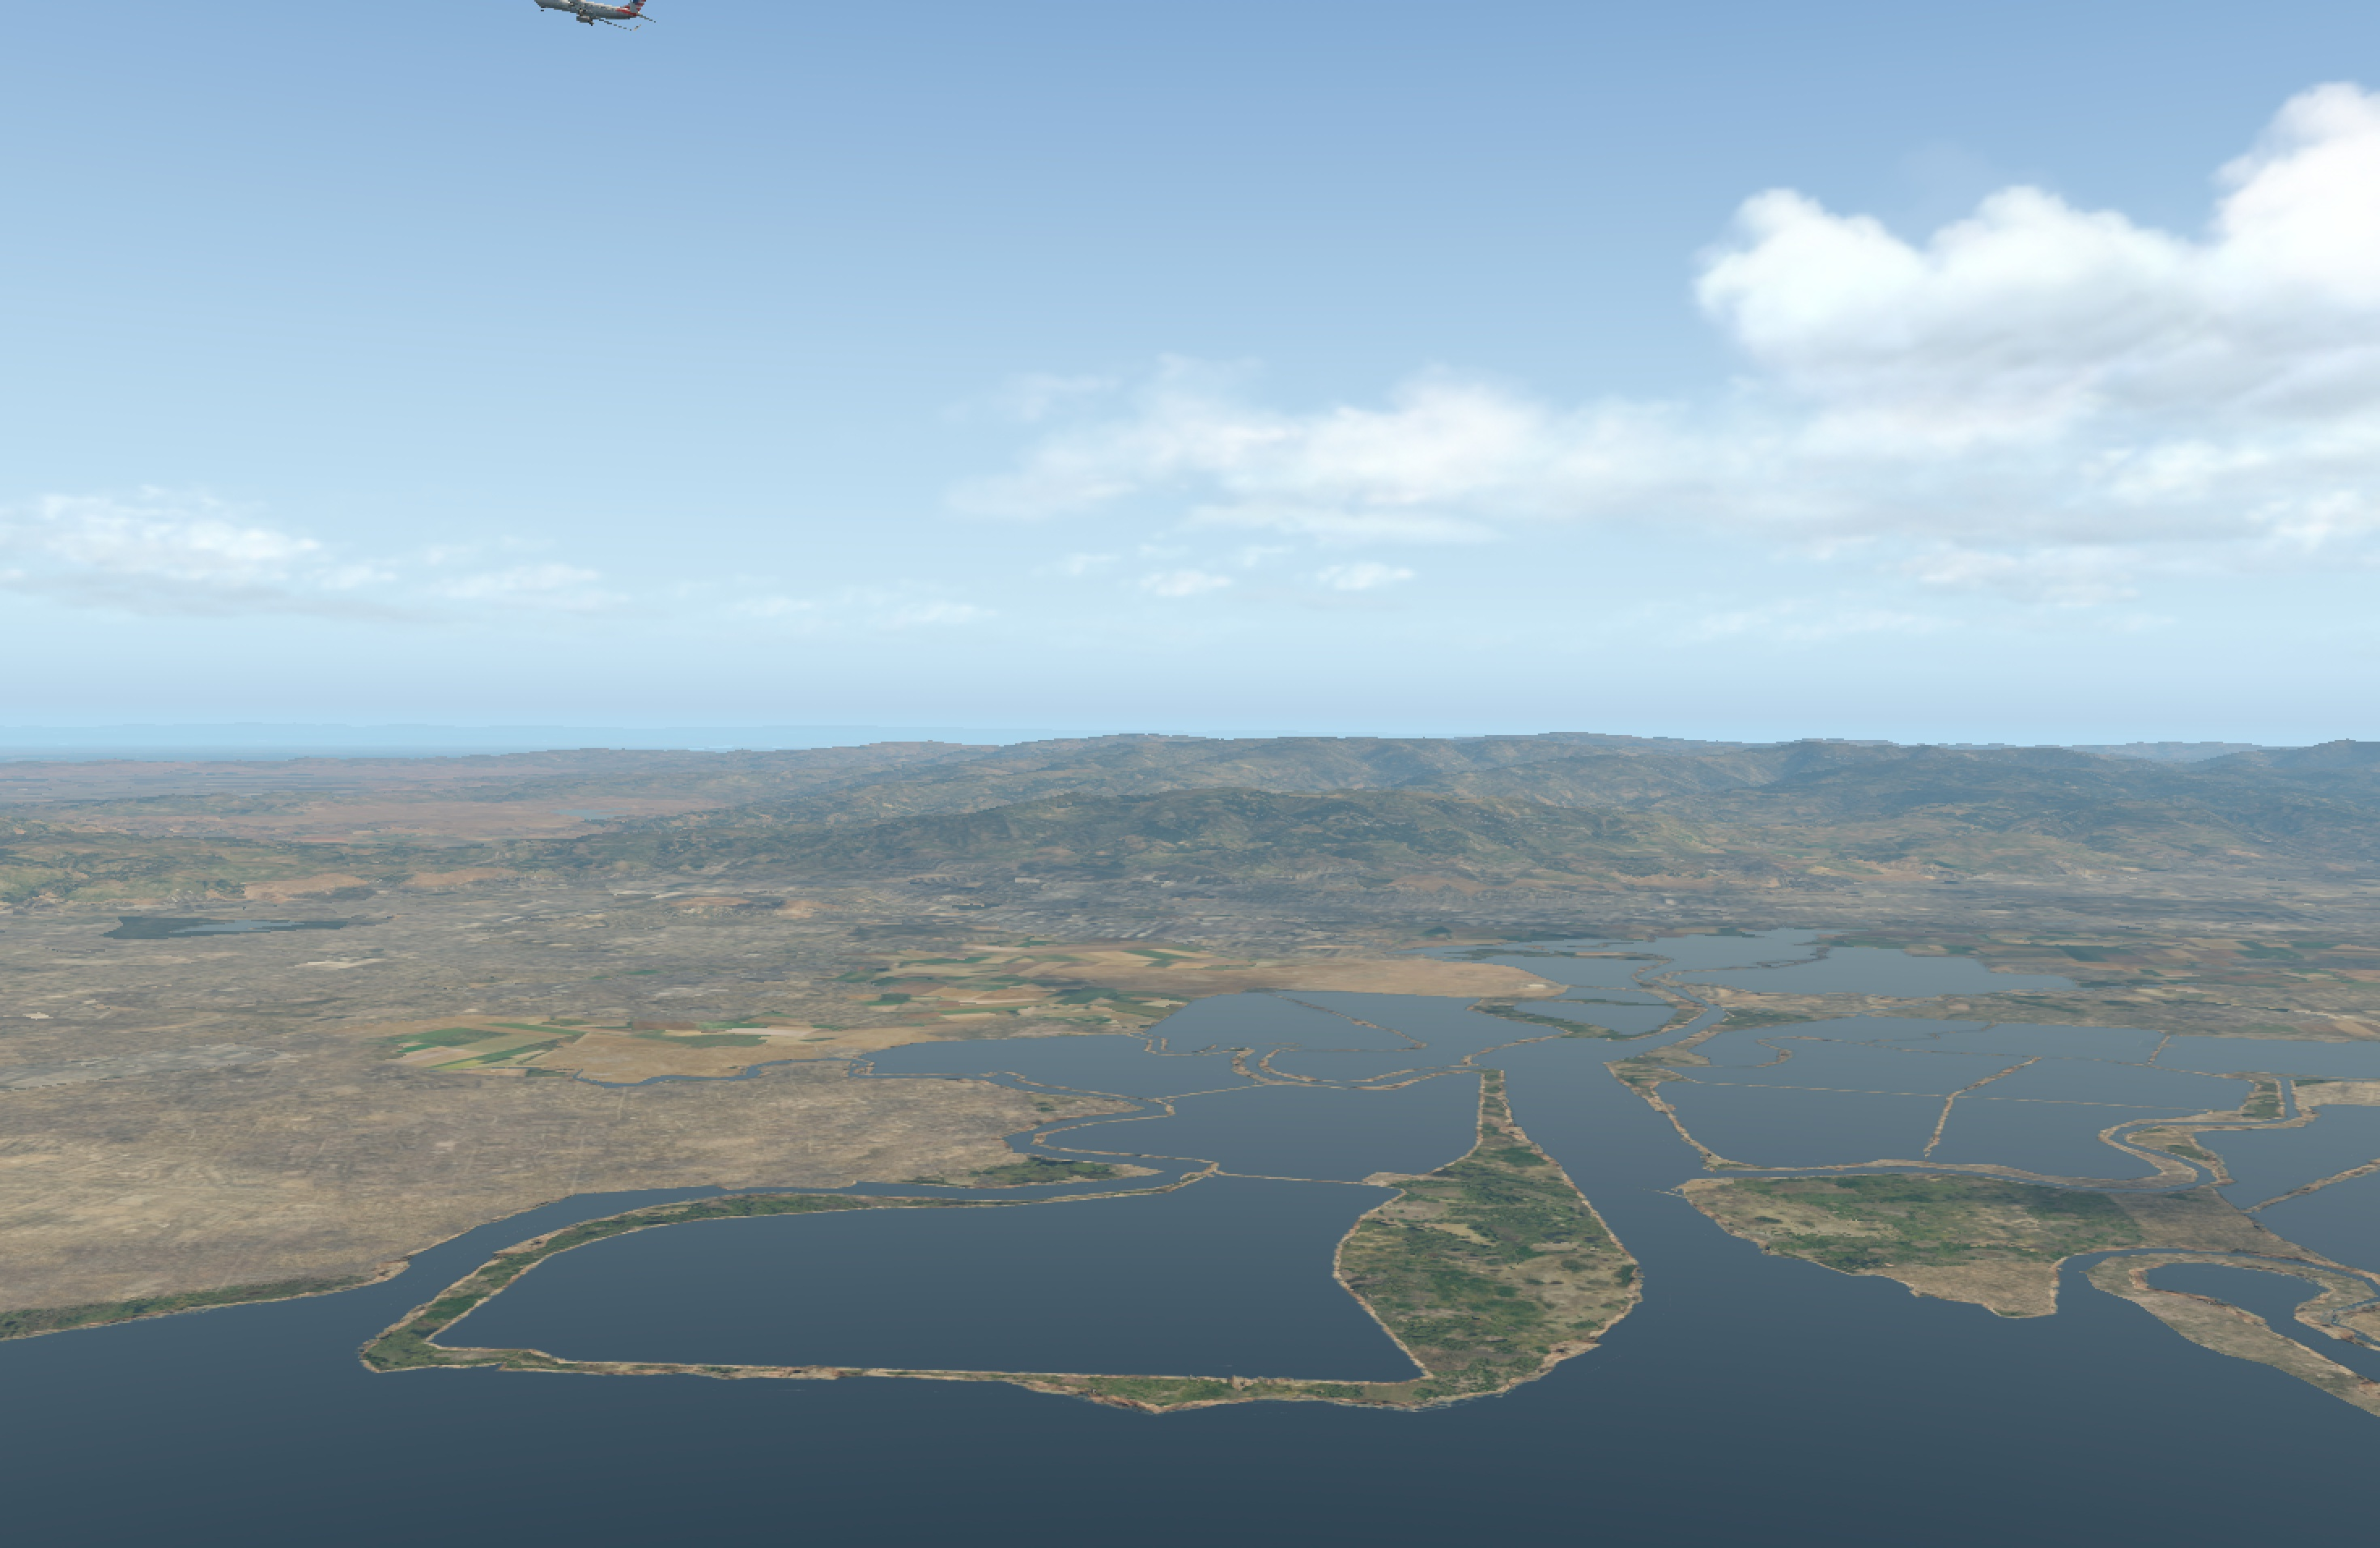aircraft: (524, 0, 644, 31)
